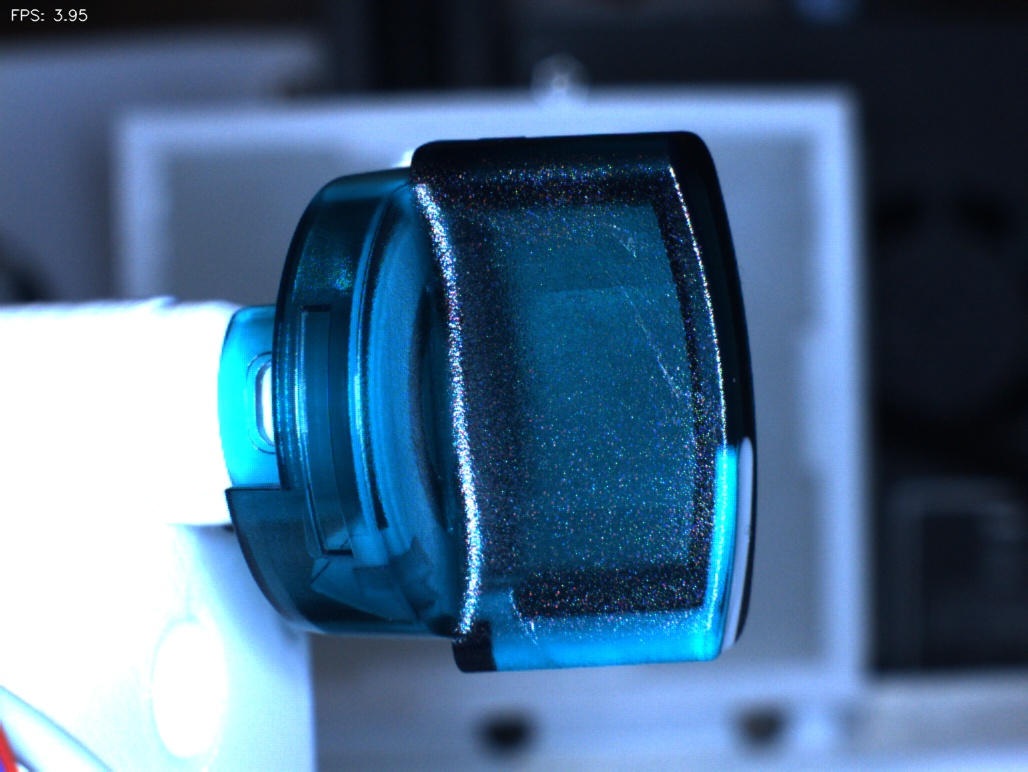Givrage: (586, 225, 686, 406)
